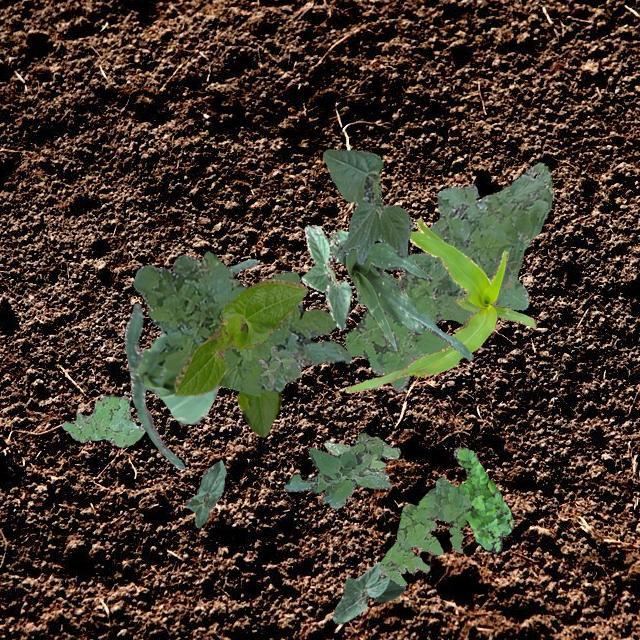crop: (344, 218, 536, 392), (124, 258, 256, 468), (342, 240, 472, 360), (174, 278, 306, 394), (322, 148, 412, 264), (300, 224, 350, 328), (332, 560, 404, 622), (184, 458, 226, 526), (237, 388, 280, 436)
weed: (344, 162, 554, 390), (132, 250, 350, 396), (378, 476, 468, 584), (282, 432, 390, 508), (452, 447, 512, 552), (60, 394, 144, 446), (324, 438, 399, 479), (258, 346, 292, 384)
